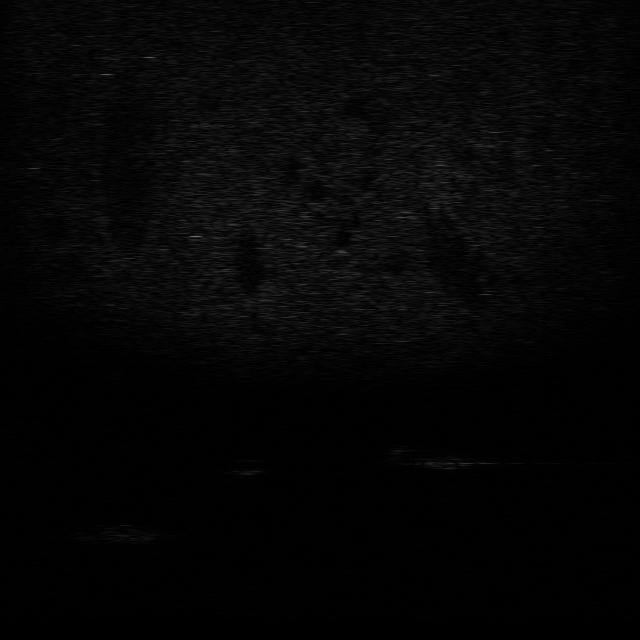ball: (222, 452, 266, 478)
circle cage: (66, 518, 159, 546)
human body: (384, 439, 485, 474)
